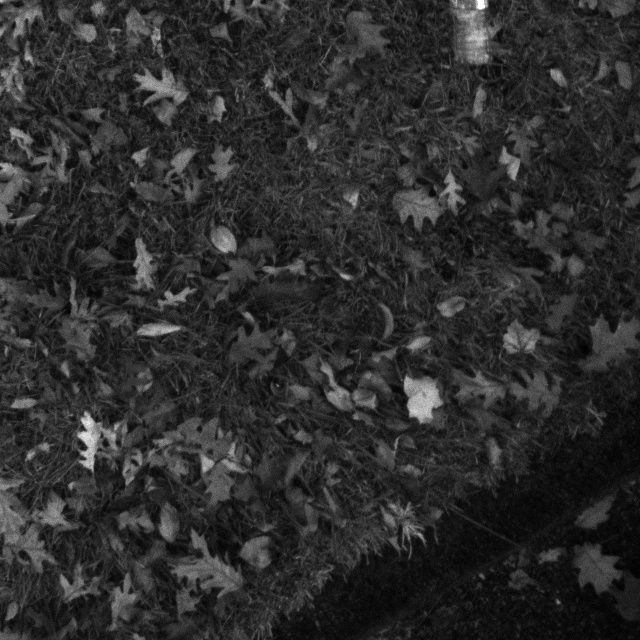bottle: (438, 0, 508, 80)
